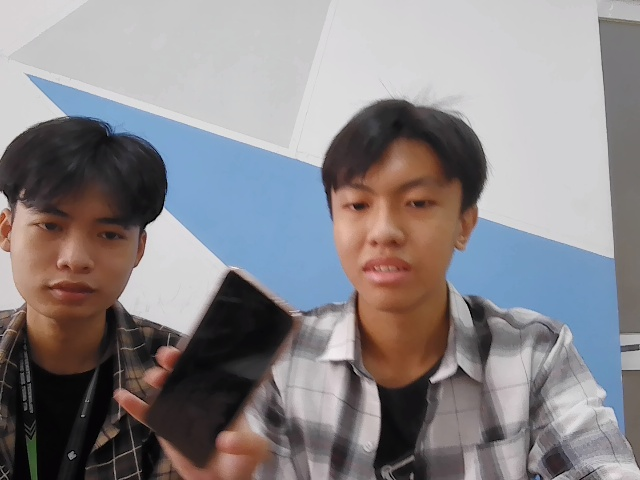human: (324, 96, 494, 318), (3, 118, 166, 315)
phone: (144, 266, 302, 451)
